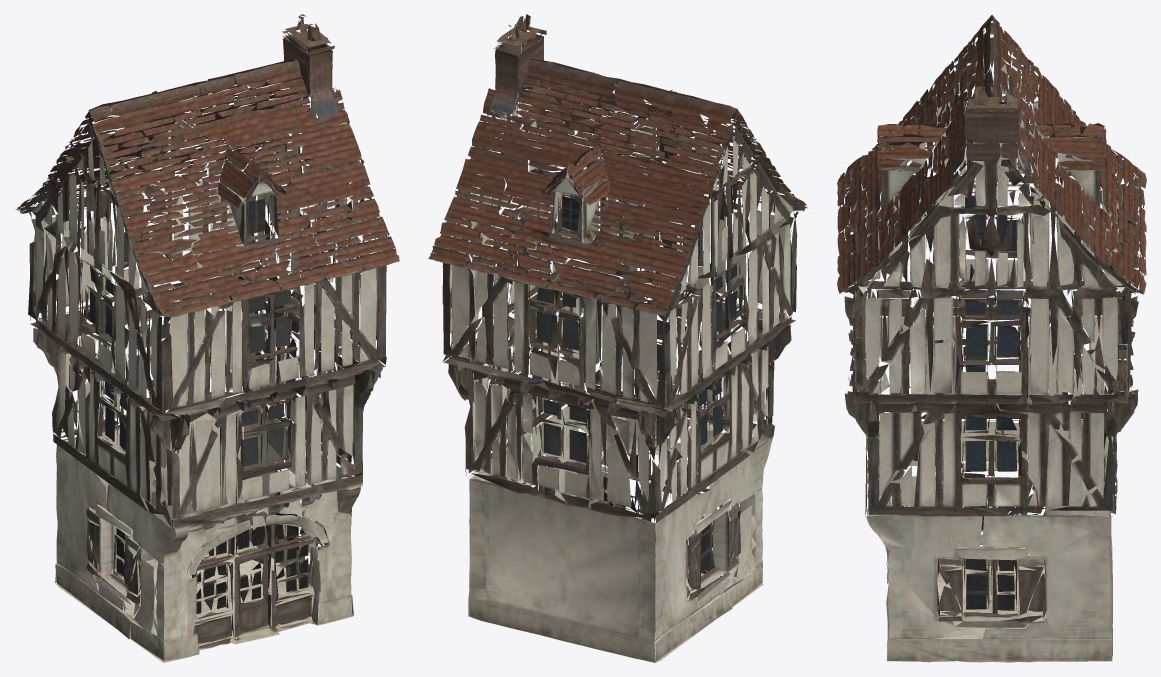
File: maison_pierre_loin.glb
3 renders of one model, left to right at view 1: azimuth 30°, elevation 25°; view 2: azimuth 150°, elevation 25°; view 3: azimuth 270°, elevation 25°, orthographic. The views are drawn at different scales.
Visible parts, largest first — view 1: maison_pierre_loin; view 2: maison_pierre_loin; view 3: maison_pierre_loin.
Part boxes in pixels (x1,y1,x2,y2): maison_pierre_loin: (15,14,399,662); maison_pierre_loin: (428,14,807,662); maison_pierre_loin: (837,14,1146,662).
Size of the model in its own units: 7.23 by 16.03 by 7.78.
Materials: 1 (1 with a texture image).
